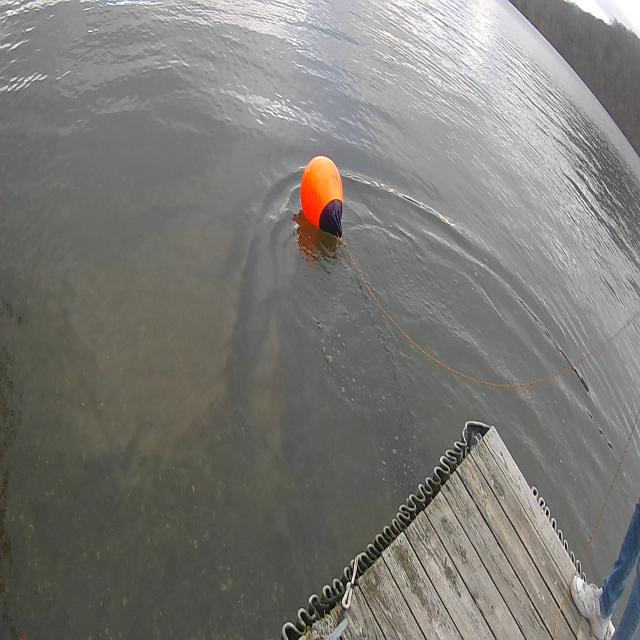Buoy: (295, 142, 353, 255)
